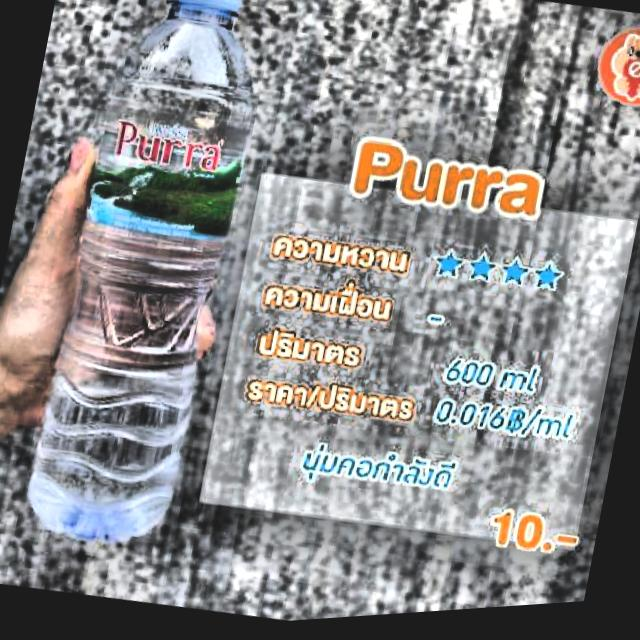Bottles: (0, 0, 336, 579)
